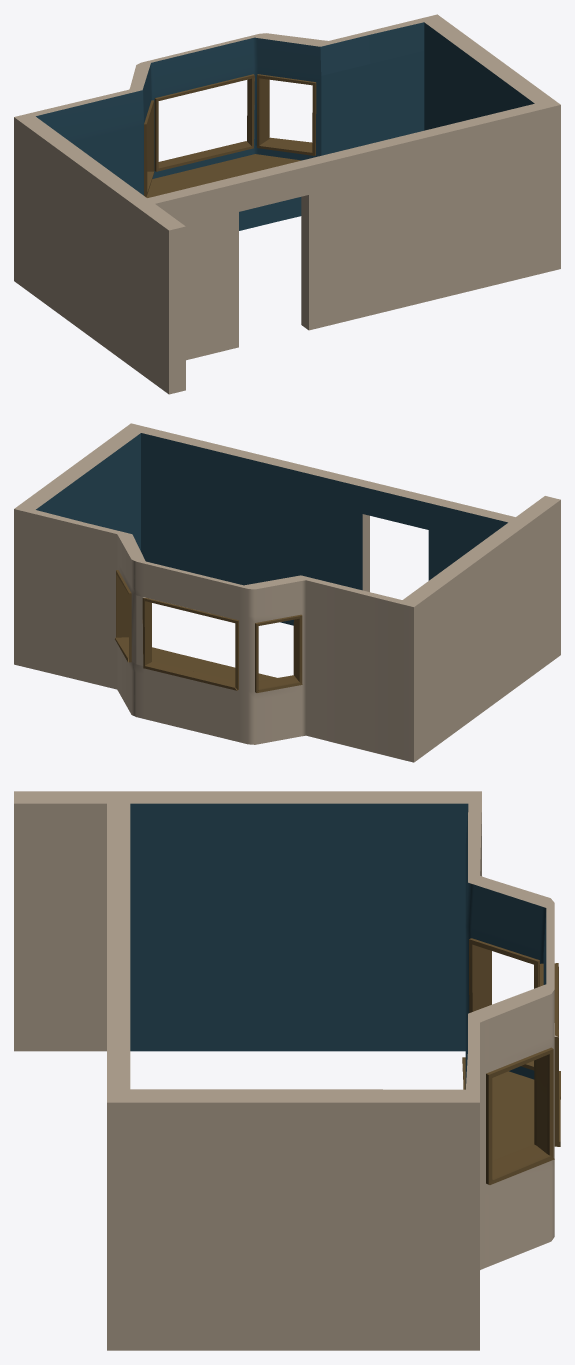
Rendered from BedroomWall.fbx.
The picture shows the model from 3 angles, top to bottom: view 1: azimuth 30°, elevation 25°; view 2: azimuth 150°, elevation 25°; view 3: azimuth 270°, elevation 25°; orthographic projection. The views are drawn at different scales.
Visible parts, largest first — view 1: BedroomWall01; view 2: BedroomWall01; view 3: BedroomWall01.
Part boxes in pixels (x1,y1,x2,y2): BedroomWall01: (14, 14, 560, 394); BedroomWall01: (14, 423, 560, 762); BedroomWall01: (14, 791, 560, 1350).
Size of the model in its own units: 1.47 by 0.5469 by 1.09.
